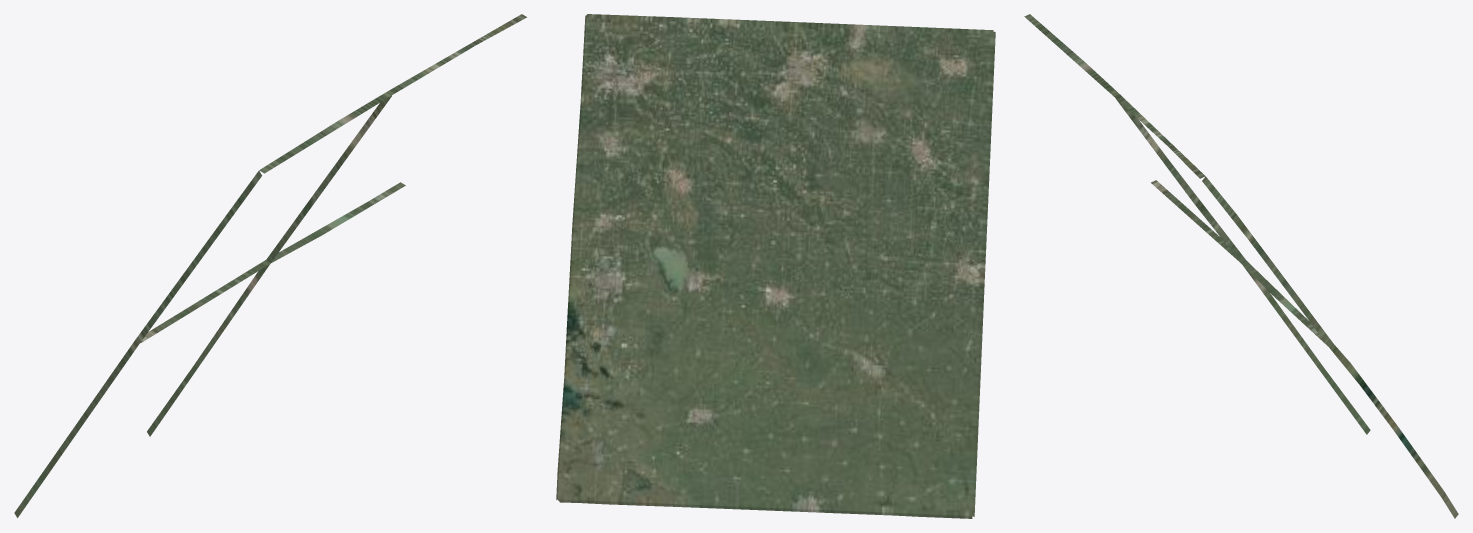
3 renders of one model, left to right at view 1: azimuth 30°, elevation 25°; view 2: azimuth 150°, elevation 25°; view 3: azimuth 270°, elevation 25°, orthographic. The views are drawn at different scales.
Size of the model in its own units: 156758 by 133323 by 134413.
1 material, 1 textured.
